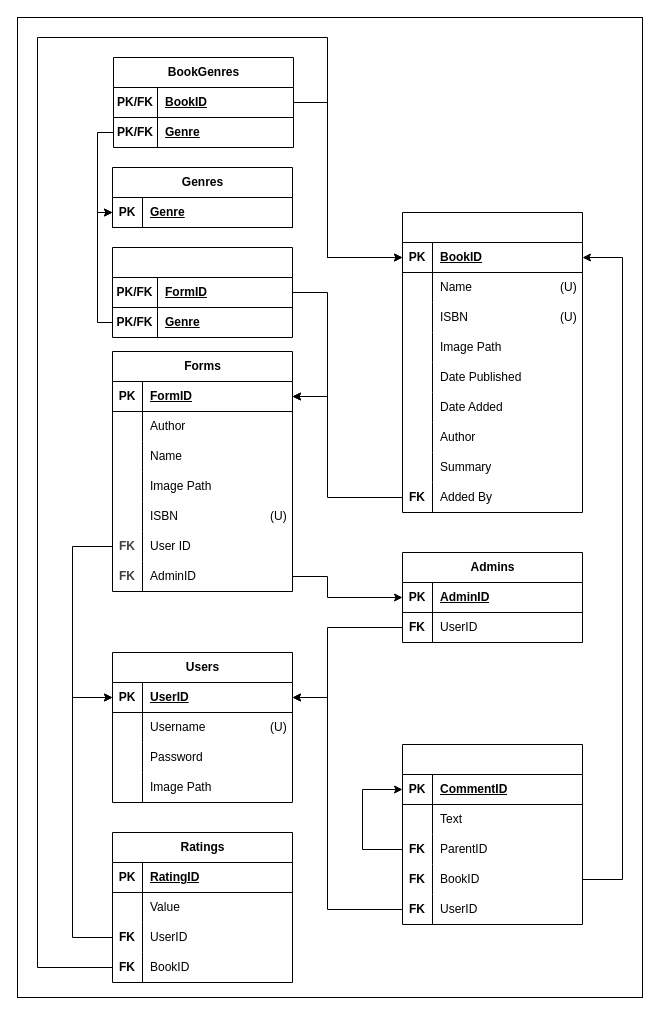
This 660x1015 diagram has some shape labels left out. Each missing label, with the box of its shape:
Books: (402, 212, 582, 512)
Comments: (402, 744, 582, 924)
FormGenres: (112, 246, 292, 338)
